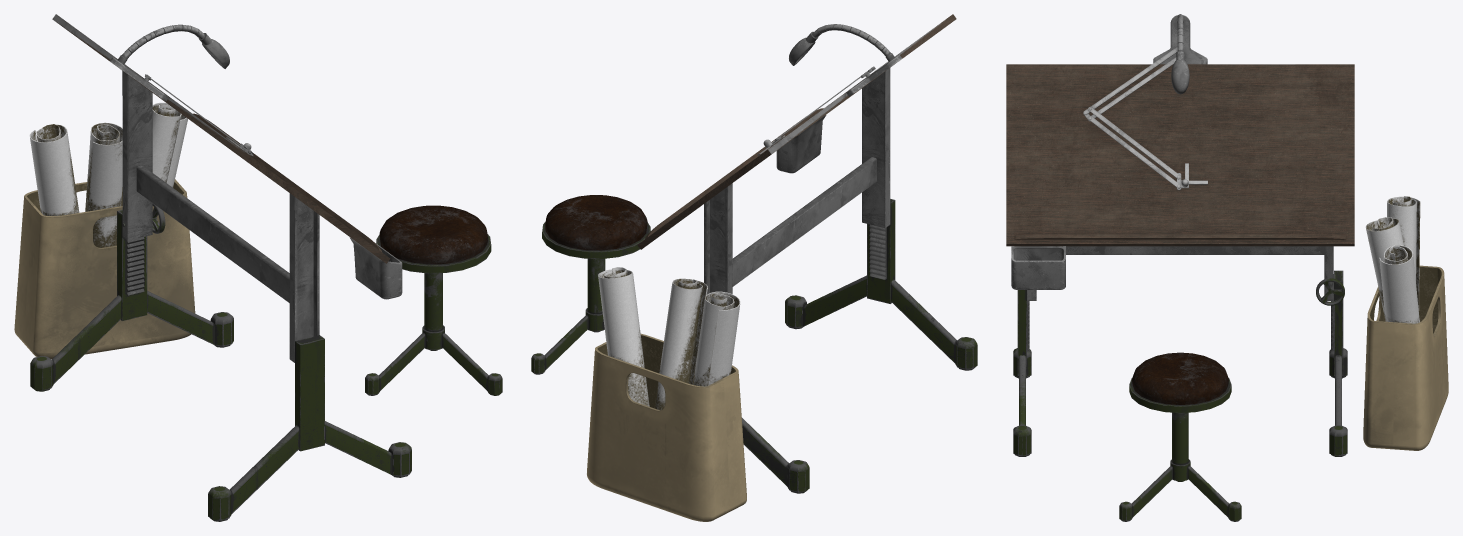
The model's file is mesa-desenho-69.glb.
3 views of the same model, side by side, from view 1: azimuth 30°, elevation 25°; view 2: azimuth 150°, elevation 25°; view 3: azimuth 270°, elevation 25° (orthographic). The views are drawn at different scales.
Parts seen in each view (by area): view 1: Table, Plans, Tabouret; view 2: Plans, Table, Tabouret; view 3: Table, Plans, Tabouret.
Boxes of the visible parts, <box> form: Table: <box>30,14,411,521</box>; Plans: <box>14,102,195,359</box>; Tabouret: <box>365,205,502,395</box>; Plans: <box>587,267,746,521</box>; Table: <box>637,14,977,493</box>; Tabouret: <box>531,195,650,374</box>; Table: <box>1006,14,1354,456</box>; Plans: <box>1363,196,1448,450</box>; Tabouret: <box>1119,352,1241,521</box>.
Size of the model in its own units: 16.55 by 17.77 by 19.19.
4 materials, 3 textured.
